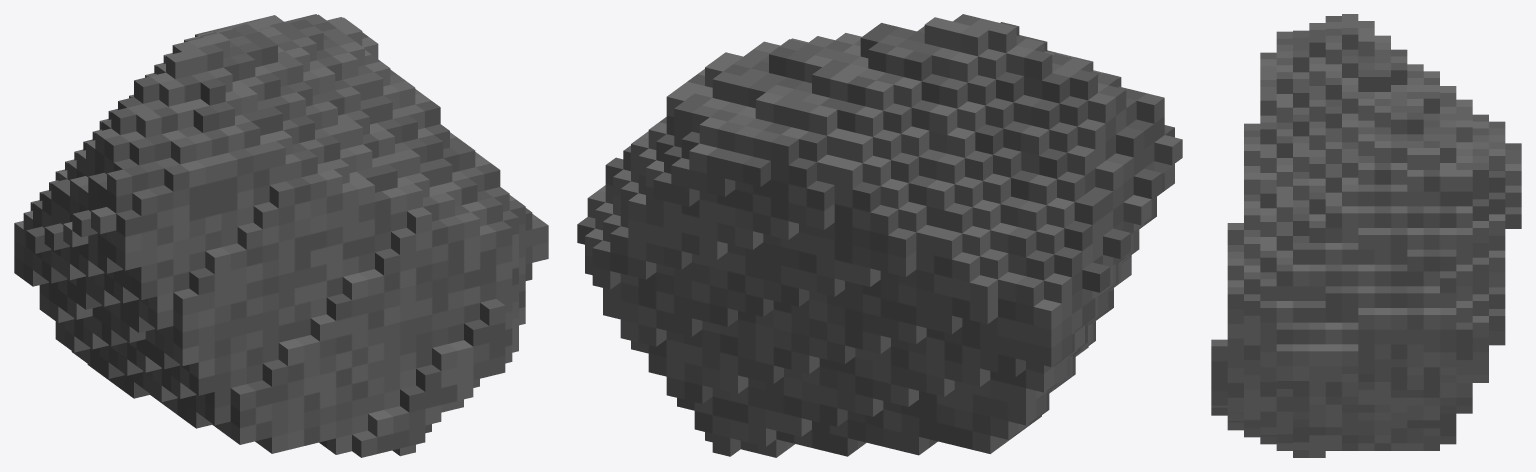
File: Asteroid_A1.fbx
The picture shows the model from 3 angles, left to right: view 1: azimuth 30°, elevation 25°; view 2: azimuth 150°, elevation 25°; view 3: azimuth 270°, elevation 25°; orthographic projection. The views are drawn at different scales.
Visible parts, largest first — view 1: T1-0; view 2: T1-0; view 3: T1-0.
Boxes of the visible parts, x1,y1,x2,y2 form: T1-0: [14, 14, 548, 457]; T1-0: [577, 14, 1182, 457]; T1-0: [1211, 14, 1521, 457].
Size of the model in its own units: 280 by 230 by 190.
